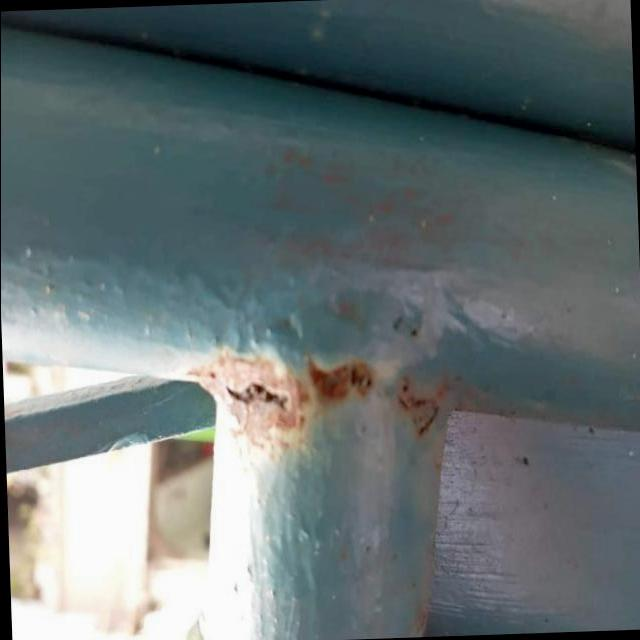defect: (221, 378, 295, 421)
